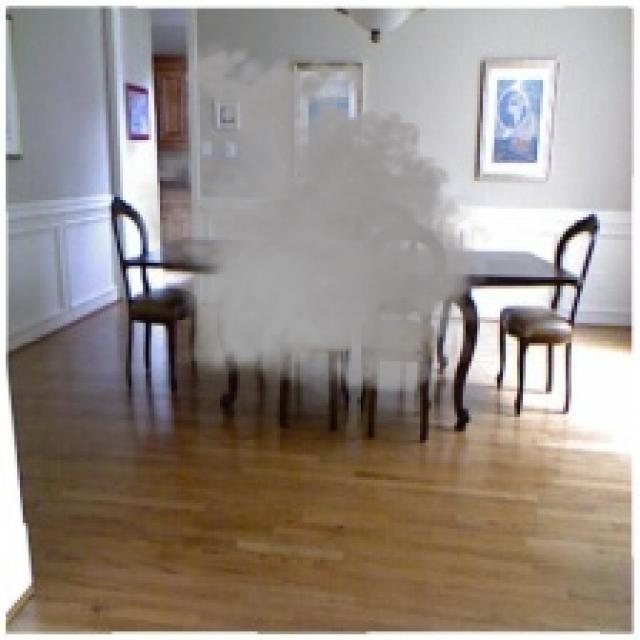smoke: (126, 37, 500, 406)
